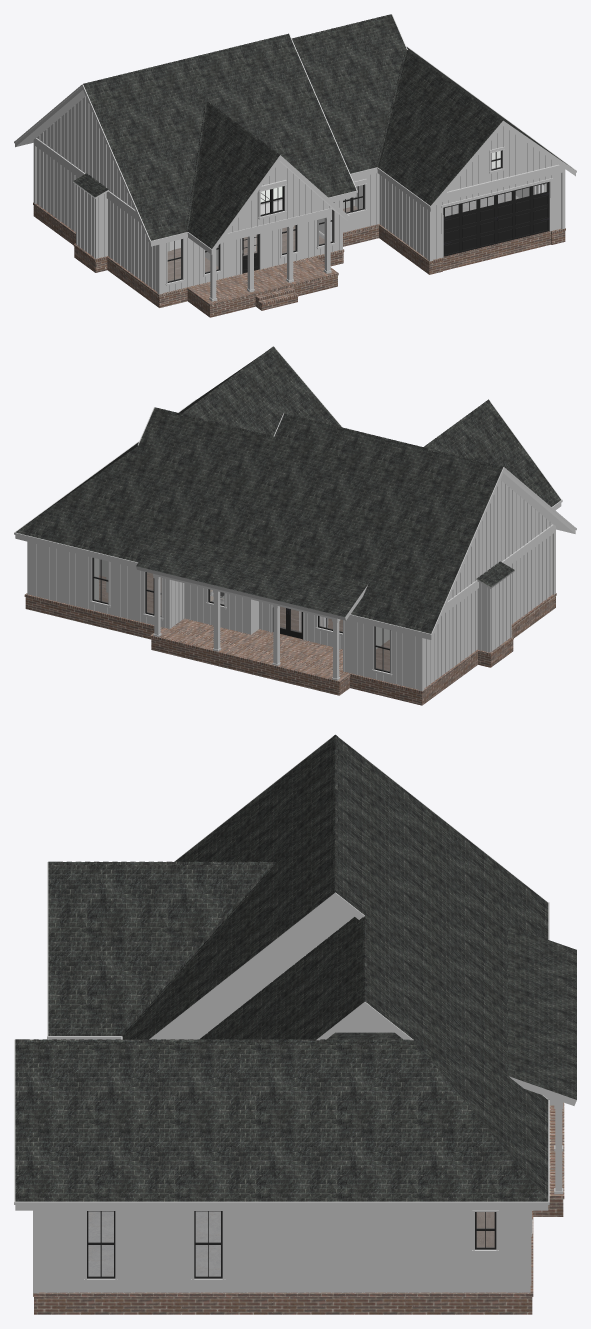
The picture shows the model from 3 angles, top to bottom: view 1: azimuth 30°, elevation 25°; view 2: azimuth 150°, elevation 25°; view 3: azimuth 270°, elevation 25°; orthographic projection. The views are drawn at different scales.
Parts seen in each view (by area): view 1: US-Home-Roof_43, US-Home-Main_Walls_66, US-Home-Main_Foundation_67, US-Home-Wooden_Struts_65, US-Home-Support_Beams_45, US-Home-Door_Garage_17, US-Home-Roofing_Tiles_Trim_42, US-Home-Window_Single_09_61, US-Home-Window_Double_Small_02_52, US-Home-Door_Front_7, US-Home-Window_Single_06_58, US-Home-Window_Double_Small_01_50; view 2: US-Home-Roof_43, US-Home-Main_Walls_66, US-Home-Main_Foundation_67, US-Home-Wooden_Struts_65, US-Home-Support_Beams_45, US-Home-Roofing_Tiles_Trim_42, US-Home-Window_Single_03_55, US-Home-Window_Single_01_53, US-Home-Door_Double_01_5, US-Home-Window_Single_02_54; view 3: US-Home-Roof_43, US-Home-Main_Walls_66, US-Home-Main_Foundation_67, US-Home-Wooden_Struts_65, US-Home-Roofing_Tiles_Trim_42, US-Home-Window_Single_05_57, US-Home-Window_Single_04_56, US-Home-Support_Beams_45, US-Home-Window_Small_02_63.
Boxes of the visible parts, x1,y1,x2,y2 form: US-Home-Roof_43: (14, 14, 576, 254); US-Home-Main_Walls_66: (36, 97, 561, 292); US-Home-Main_Foundation_67: (33, 192, 565, 317); US-Home-Wooden_Struts_65: (39, 96, 558, 291); US-Home-Support_Beams_45: (33, 138, 565, 301); US-Home-Door_Garage_17: (443, 182, 549, 256); US-Home-Roofing_Tiles_Trim_42: (83, 14, 503, 231); US-Home-Window_Single_09_61: (165, 238, 184, 285); US-Home-Window_Double_Small_02_52: (258, 180, 286, 219); US-Home-Door_Front_7: (242, 234, 259, 273); US-Home-Window_Single_06_58: (316, 201, 336, 249); US-Home-Window_Double_Small_01_50: (343, 179, 366, 215); US-Home-Roof_43: (14, 346, 576, 639); US-Home-Main_Walls_66: (27, 480, 552, 689); US-Home-Main_Foundation_67: (24, 572, 556, 705); US-Home-Wooden_Struts_65: (36, 480, 550, 688); US-Home-Support_Beams_45: (153, 524, 555, 691); US-Home-Roofing_Tiles_Trim_42: (154, 346, 503, 468); US-Home-Window_Single_03_55: (89, 557, 110, 607); US-Home-Window_Single_01_53: (371, 626, 392, 676); US-Home-Door_Double_01_5: (272, 607, 302, 639); US-Home-Window_Single_02_54: (142, 571, 163, 620); US-Home-Roof_43: (14, 734, 576, 1210); US-Home-Main_Walls_66: (39, 901, 530, 1292); US-Home-Main_Foundation_67: (33, 1102, 564, 1314); US-Home-Wooden_Struts_65: (46, 903, 531, 1292); US-Home-Roofing_Tiles_Trim_42: (15, 735, 408, 1042); US-Home-Window_Single_05_57: (84, 1210, 117, 1282); US-Home-Window_Single_04_56: (191, 1210, 225, 1282); US-Home-Support_Beams_45: (33, 1096, 563, 1293); US-Home-Window_Small_02_63: (472, 1210, 498, 1253).
Size of the model in its own units: 19.5 by 8.64 by 15.47.
